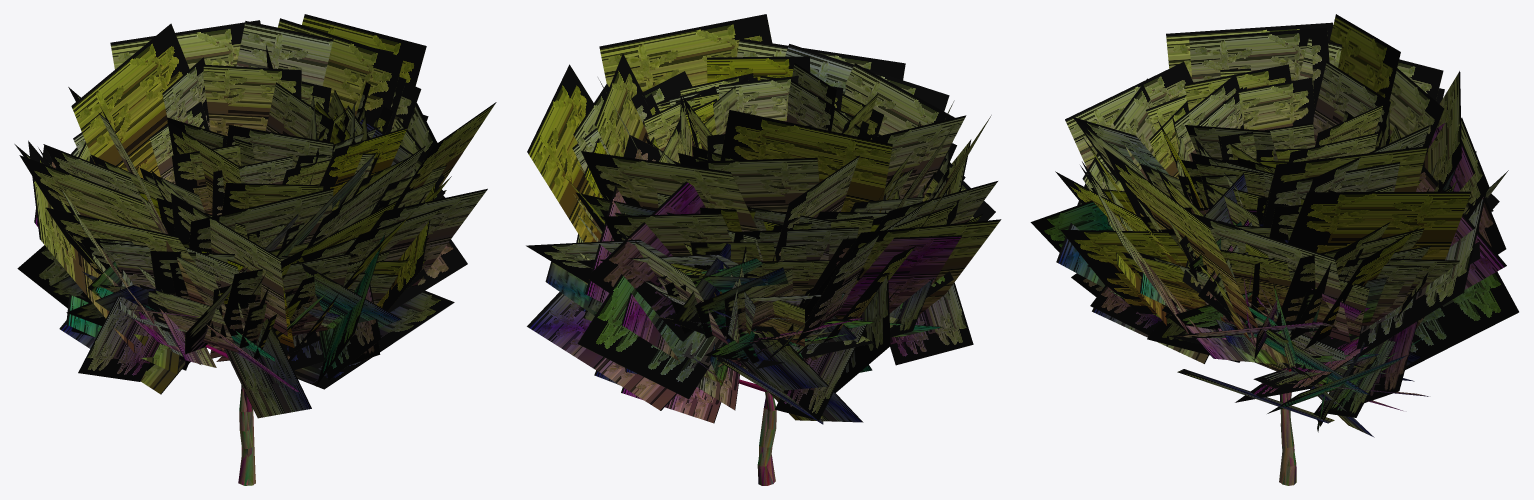
File: tree-ornamental.glb
3 views of the same model, side by side, from view 1: azimuth 30°, elevation 25°; view 2: azimuth 150°, elevation 25°; view 3: azimuth 270°, elevation 25° (orthographic).
Visible parts, largest first — view 1: lo-leaf, hi-leaf, lo-bark, hi-bark; view 2: lo-leaf, hi-leaf, hi-bark; view 3: lo-leaf, hi-leaf, lo-bark.
Boxes of the visible parts, x1,y1,x2,y2 form: lo-leaf: (14, 14, 496, 418); hi-leaf: (44, 57, 446, 381); lo-bark: (206, 344, 255, 485); hi-bark: (238, 385, 255, 485); lo-leaf: (526, 14, 1001, 424); hi-leaf: (572, 56, 973, 423); hi-bark: (739, 379, 776, 485); lo-leaf: (1030, 14, 1518, 423); hi-leaf: (1071, 61, 1499, 437); lo-bark: (1279, 366, 1294, 485).
Bounding box in the file's own units: 8.21 × 7.7 × 8.1.
2 materials, 2 textured.
